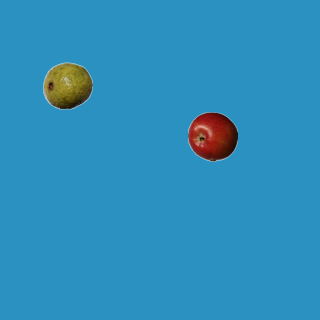Apple Braeburn: (187, 111, 237, 161)
Guava: (42, 60, 92, 110)
